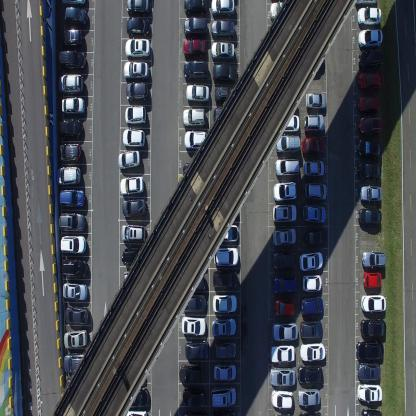car: (210, 385, 236, 408), (181, 314, 206, 337), (212, 291, 238, 313), (57, 118, 83, 140), (269, 0, 295, 22), (358, 70, 384, 92), (124, 37, 150, 59), (58, 71, 84, 93), (57, 27, 83, 49), (61, 257, 88, 278), (122, 60, 149, 81), (58, 212, 86, 232), (356, 340, 384, 360), (58, 50, 86, 70), (122, 126, 146, 149), (124, 386, 149, 408), (63, 327, 88, 349), (183, 60, 208, 82), (212, 268, 238, 289), (302, 228, 328, 249), (55, 165, 81, 186), (358, 49, 384, 70), (360, 317, 386, 338), (58, 188, 85, 208), (179, 362, 203, 384), (273, 180, 297, 202), (272, 250, 296, 272), (184, 129, 208, 151), (182, 38, 206, 60), (300, 295, 324, 317), (358, 138, 382, 160), (298, 251, 323, 272), (272, 202, 297, 223), (64, 305, 89, 326), (183, 161, 208, 182), (358, 115, 383, 136), (119, 175, 144, 196), (63, 5, 88, 26), (211, 317, 237, 337), (213, 246, 239, 266), (62, 281, 88, 301), (60, 234, 86, 254), (212, 62, 238, 82), (182, 386, 205, 408), (183, 292, 206, 314), (271, 388, 294, 410), (302, 204, 326, 225), (272, 226, 296, 247), (182, 106, 206, 127), (211, 40, 235, 61), (302, 135, 326, 156), (276, 113, 300, 134), (358, 27, 382, 48), (357, 161, 381, 182), (125, 81, 149, 102), (184, 340, 209, 360), (273, 275, 298, 295), (63, 352, 88, 372), (213, 106, 238, 126), (185, 82, 210, 102), (183, 18, 208, 38), (275, 134, 300, 154), (361, 293, 386, 313), (297, 364, 322, 384), (300, 342, 325, 362), (270, 344, 296, 363), (272, 322, 298, 341), (357, 383, 383, 402), (270, 367, 296, 386), (120, 223, 146, 242), (121, 246, 147, 265), (213, 340, 237, 360), (215, 222, 239, 242), (57, 142, 81, 162), (357, 6, 381, 26), (358, 207, 382, 227), (122, 198, 146, 218), (122, 271, 146, 291), (210, 19, 235, 38), (210, 0, 236, 18), (304, 180, 326, 201), (303, 112, 325, 133), (124, 104, 146, 125), (213, 362, 236, 382), (357, 361, 380, 381), (297, 387, 320, 407), (300, 319, 323, 339), (117, 150, 140, 170), (126, 17, 150, 36), (61, 96, 85, 115), (275, 158, 300, 176), (302, 159, 325, 178), (214, 85, 238, 103), (362, 250, 386, 268), (184, 0, 207, 18), (183, 273, 206, 291), (64, 376, 87, 394), (306, 90, 326, 110), (358, 95, 379, 114), (360, 184, 382, 202), (126, 0, 149, 17), (362, 270, 382, 289), (274, 299, 295, 317), (302, 274, 322, 292), (361, 406, 382, 416), (124, 408, 148, 416), (60, 0, 86, 7), (210, 408, 235, 415), (354, 0, 377, 7), (183, 410, 206, 416), (298, 410, 321, 416), (272, 411, 294, 415)
